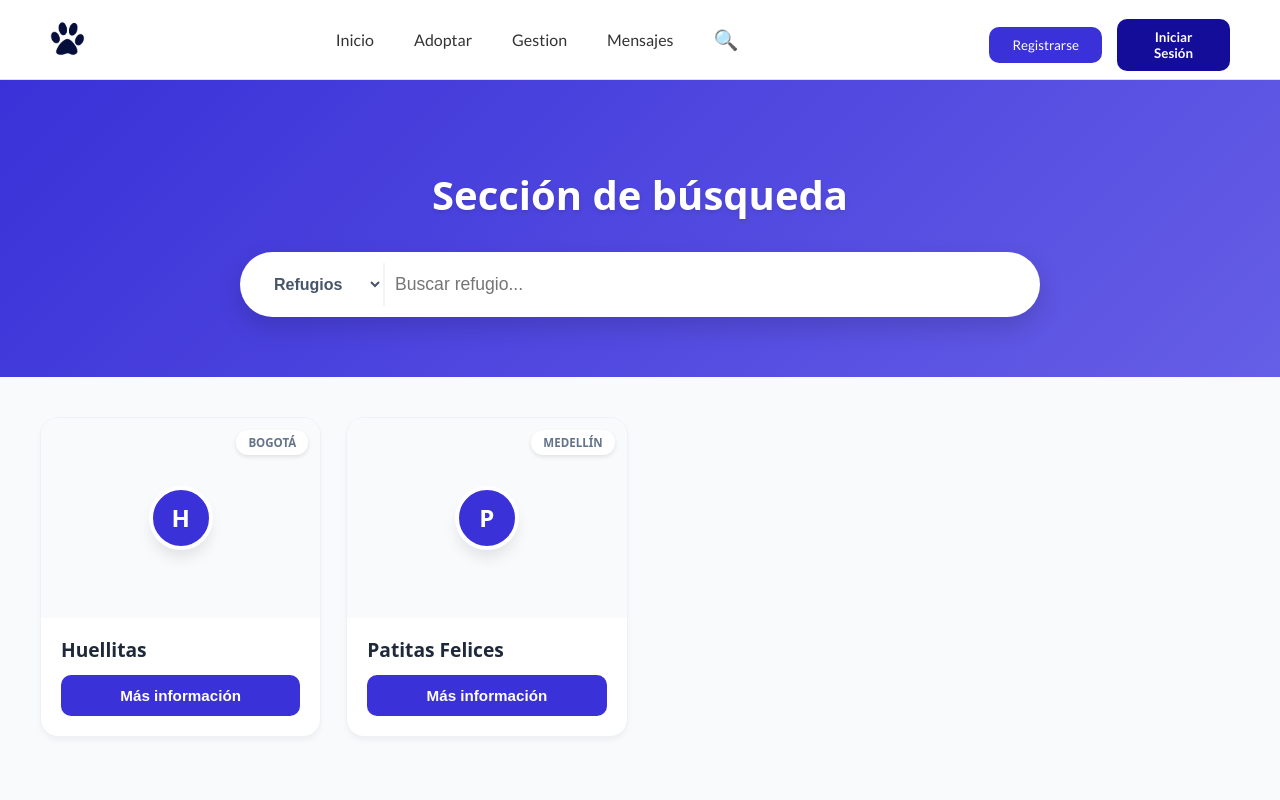
Test case: Search Page › abre el modal al hacer clic en Más información
Expected: the heading "Huellitas" is shown, x1=61 y1=636 x2=147 y2=663
Click the button "Más información" below "Huellitas" at x=181, y=696, box x1=61 y1=675 x2=300 y2=716
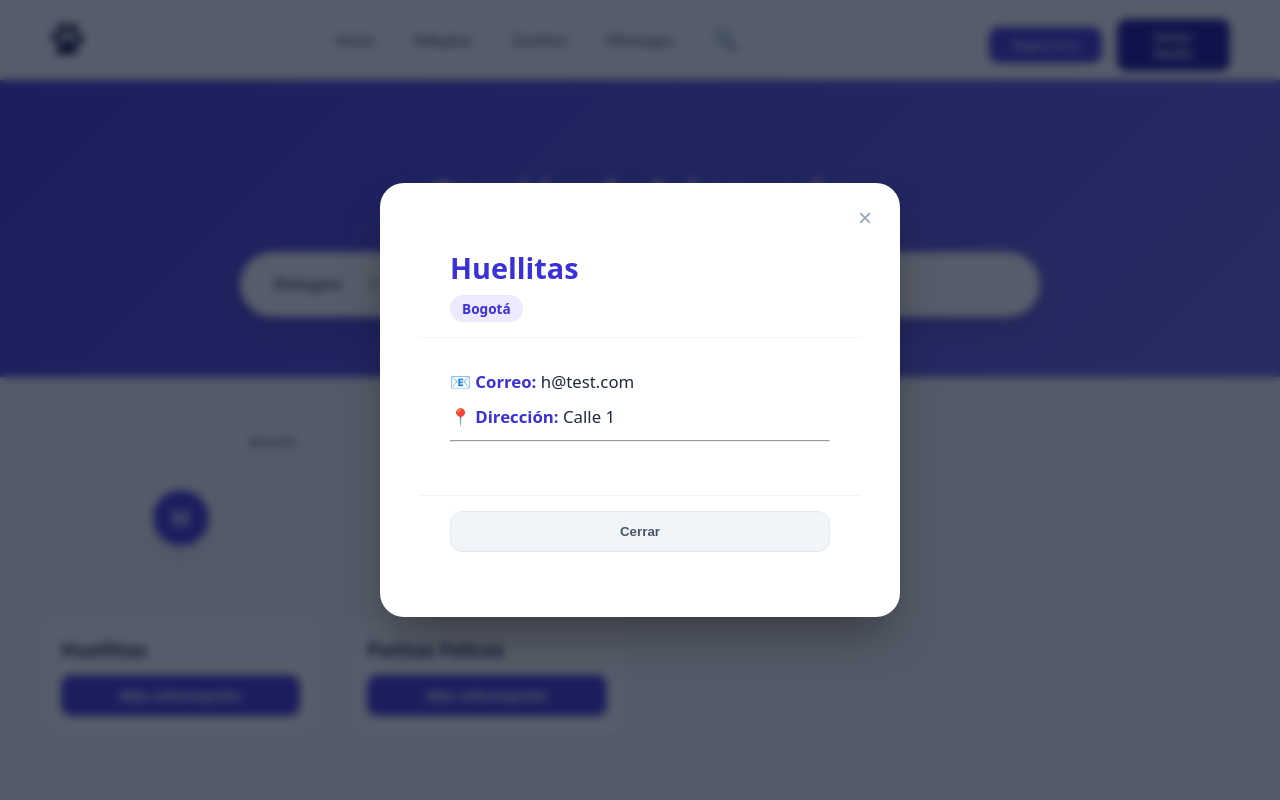
Expected: the text "📧 Correo:" is shown, x1=450 y1=370 x2=536 y2=393
